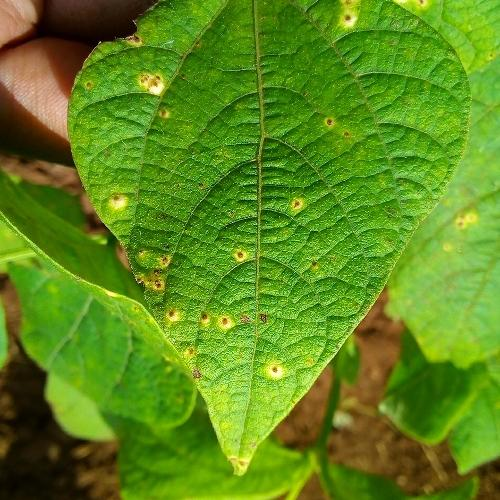hawar: (122, 220, 298, 374), (284, 0, 408, 216), (91, 36, 238, 216)
